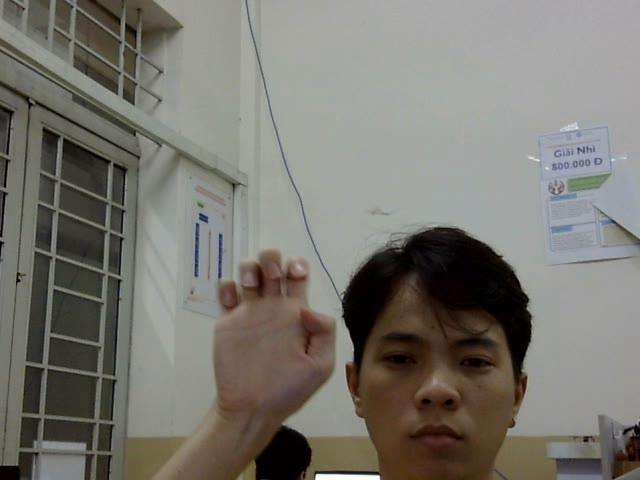E: (211, 247, 337, 417)
